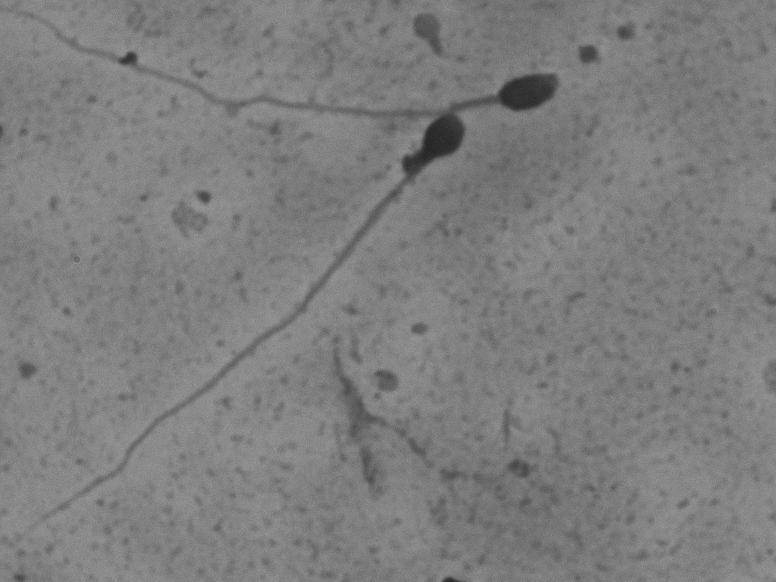Normal: (4, 110, 478, 546), (12, 2, 574, 134)
